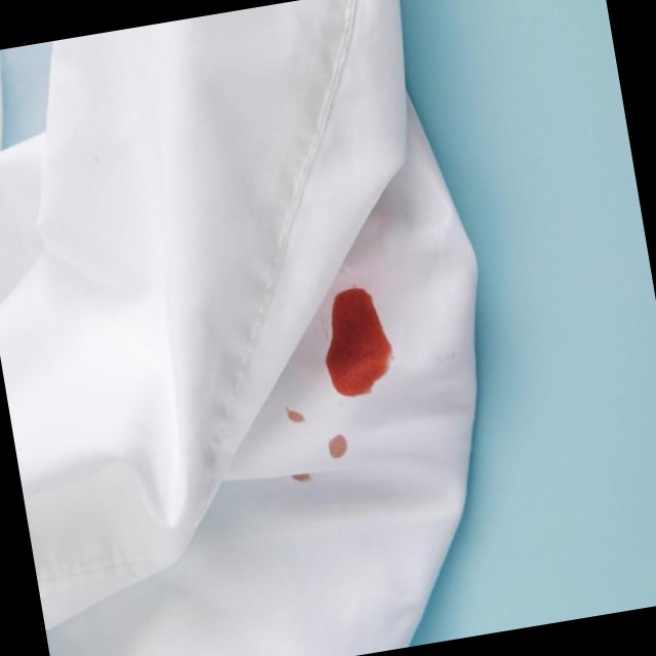blood: (306, 276, 403, 400), (275, 395, 358, 489)
